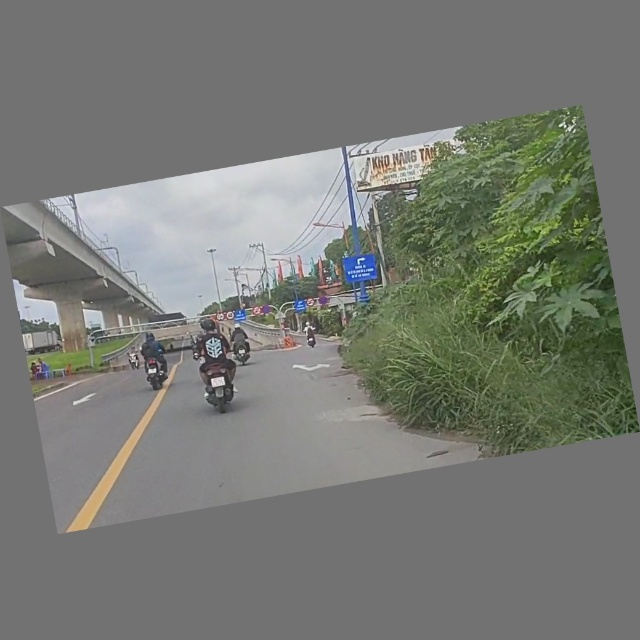P.107: (305, 297, 316, 308), (253, 307, 261, 316)
P.117*: (216, 312, 226, 322)
P.127*40: (225, 311, 235, 321)
P.130: (318, 296, 329, 307), (261, 305, 272, 315)
